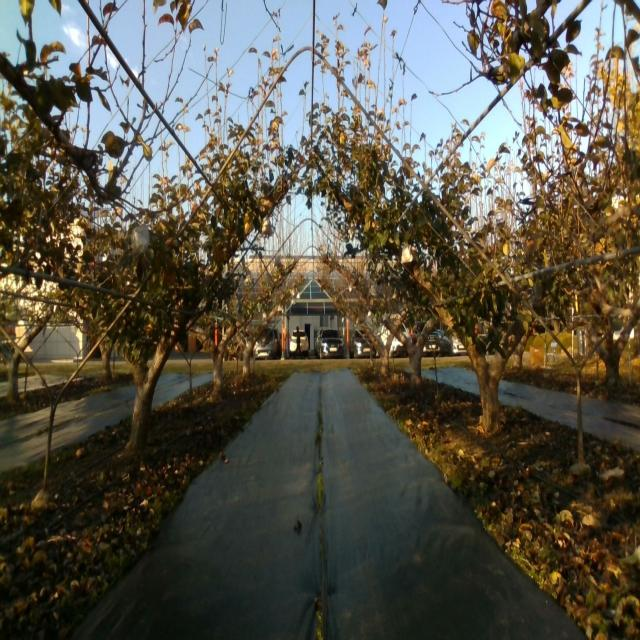pearbags: (131, 223, 149, 255), (401, 243, 414, 264), (262, 217, 272, 234)
